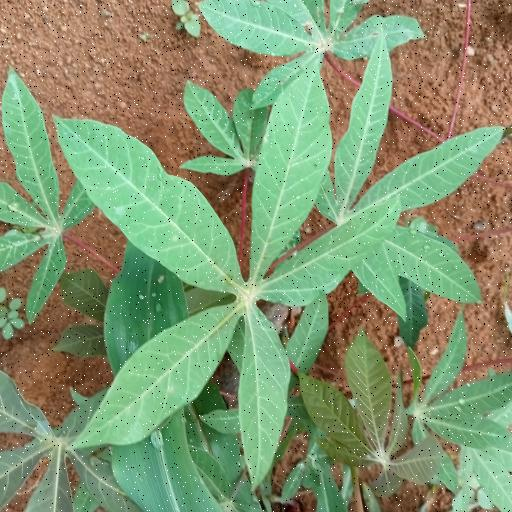Cassava_Mosaic: (62, 86, 396, 459)
